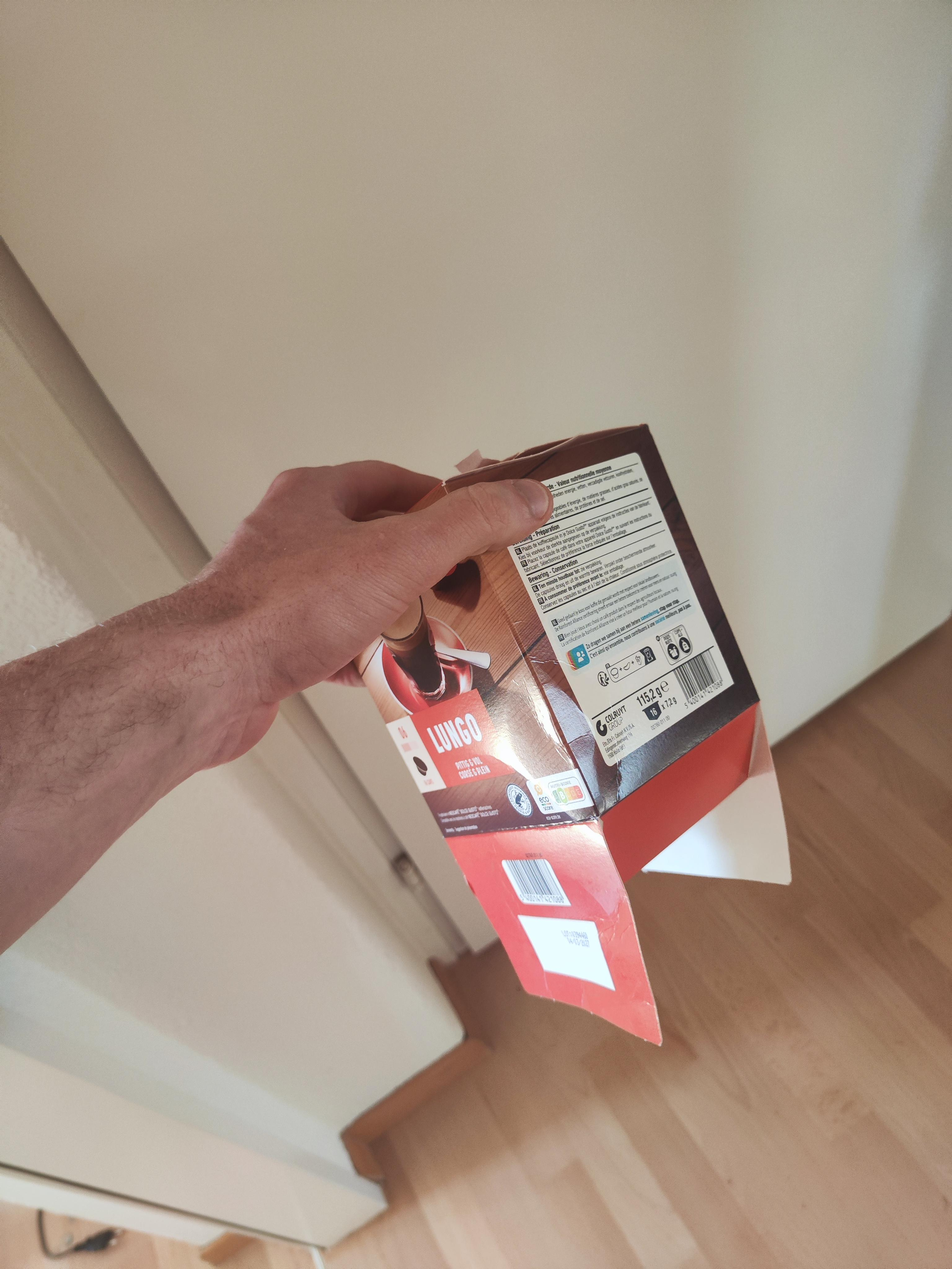Cardboard: (342, 421, 798, 1051)
